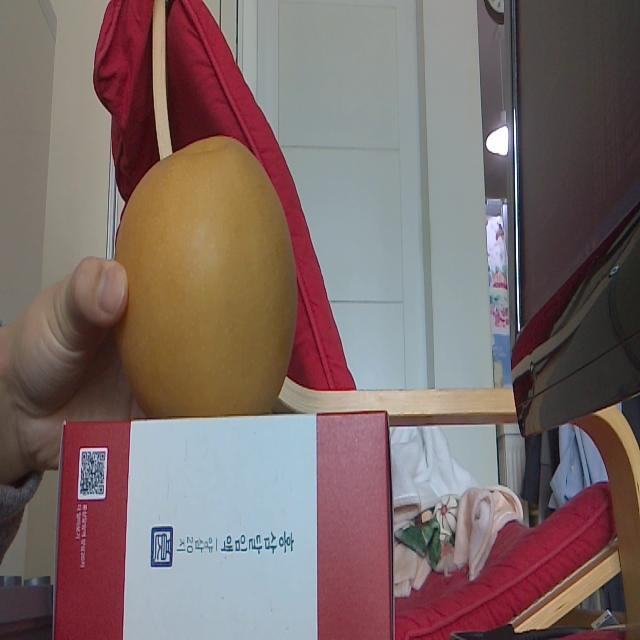pear: (116, 132, 297, 417)
